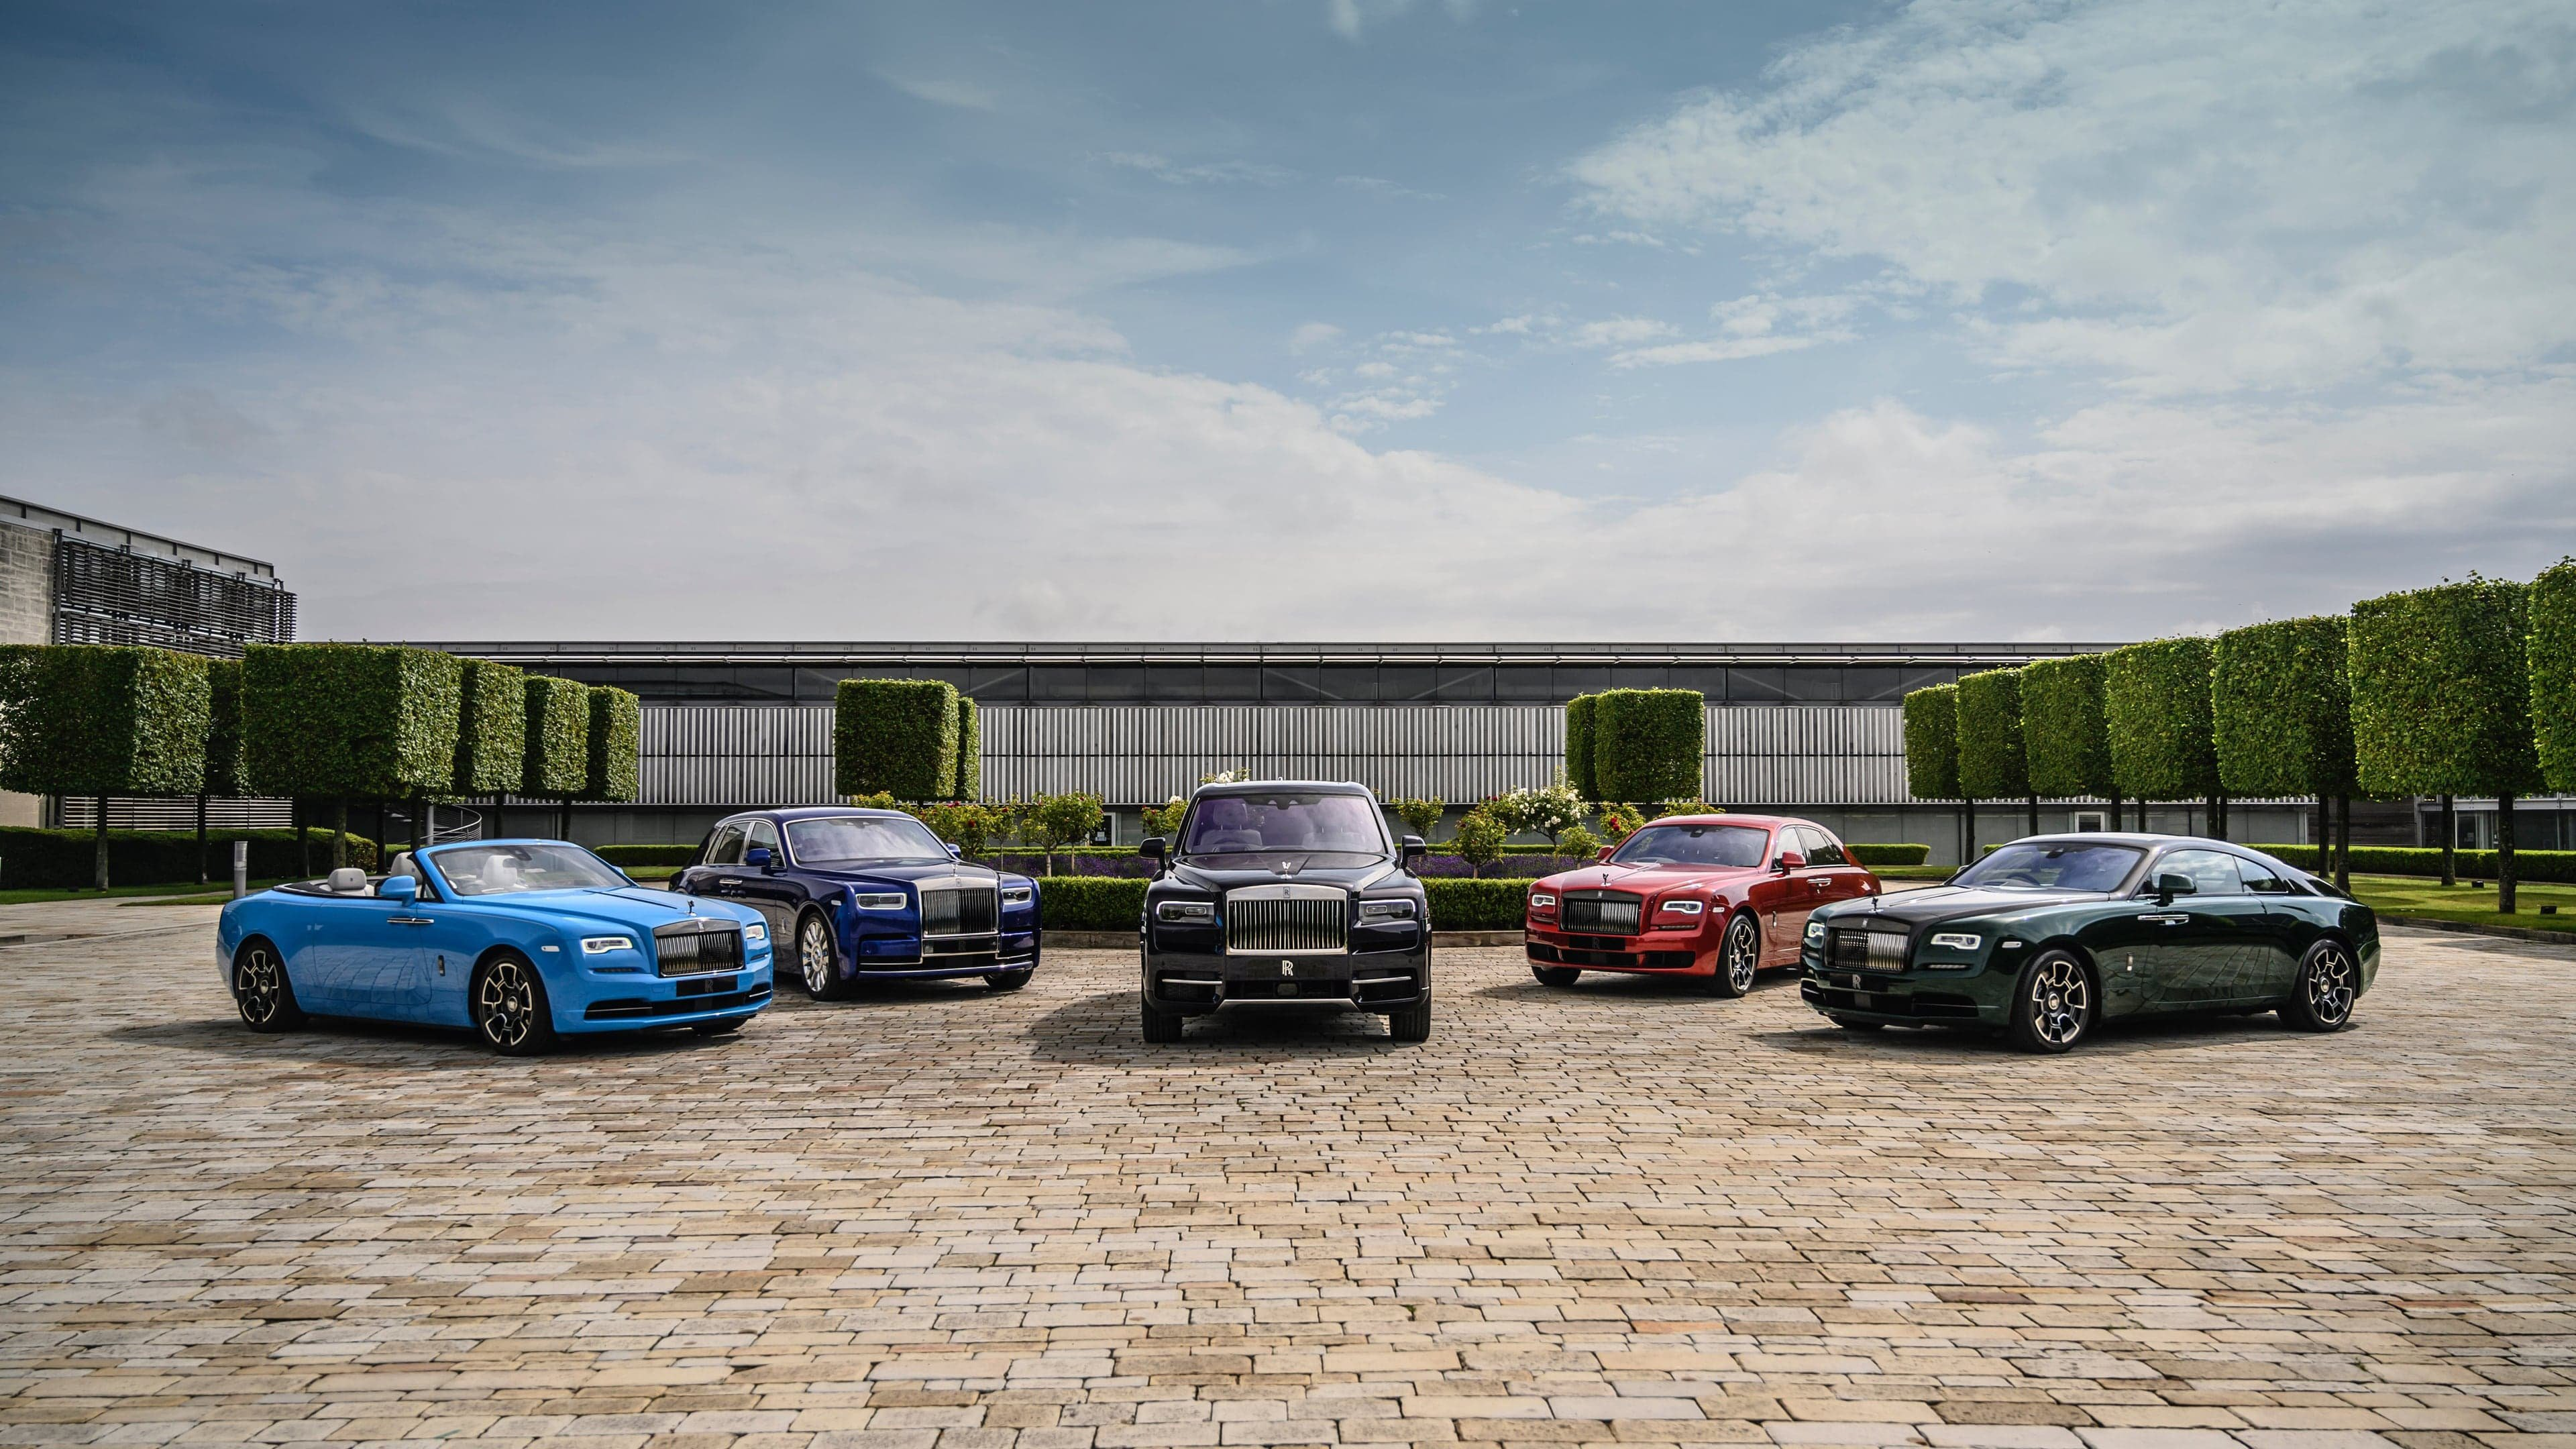car: (1794, 824, 2396, 1039), (216, 824, 782, 1051), (1139, 757, 1447, 1044), (674, 780, 1044, 994), (1527, 810, 1893, 975)
